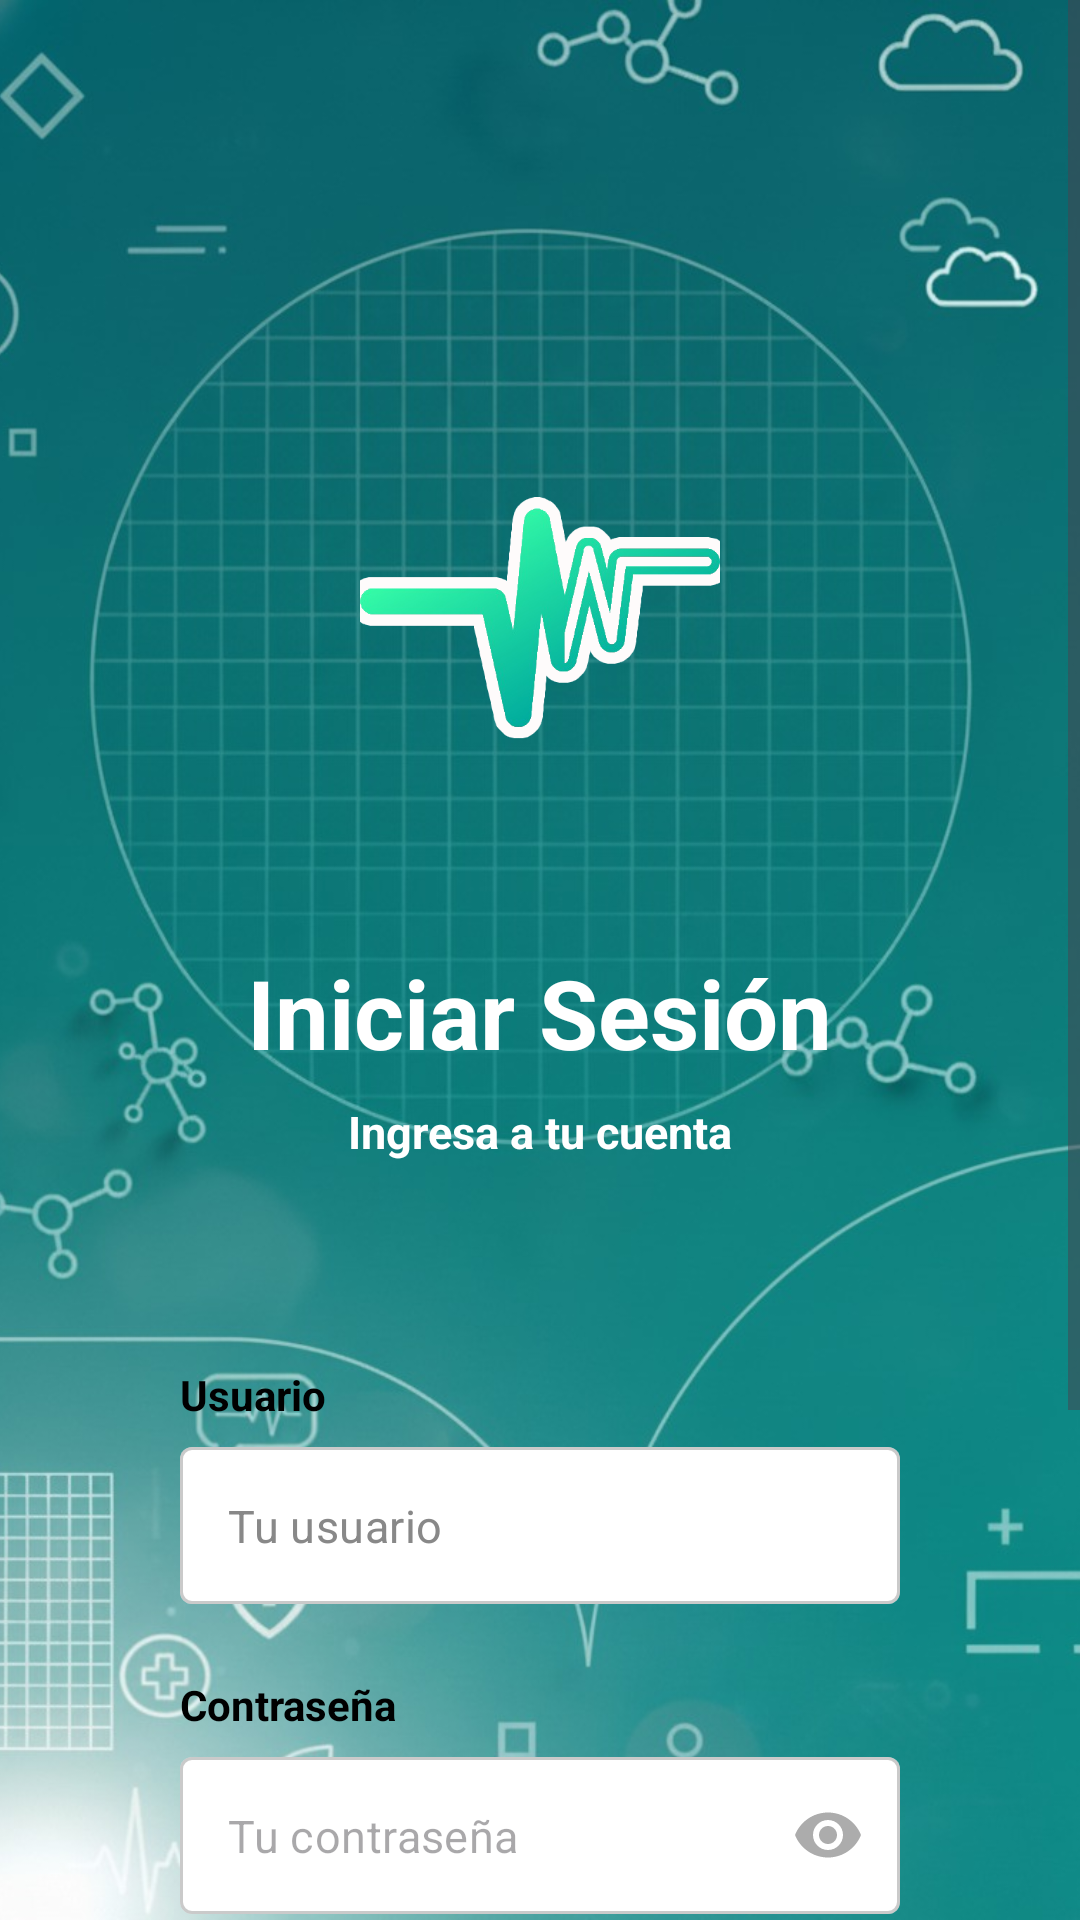

Icons on this 1080*1920 Android screen, each with the point to tap as [x,y]:
heartbeat: [540,618]
